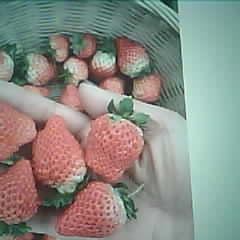straw-ripe: (86, 115, 145, 182), (58, 182, 125, 237), (34, 118, 84, 187), (0, 163, 40, 224), (117, 35, 151, 76)
